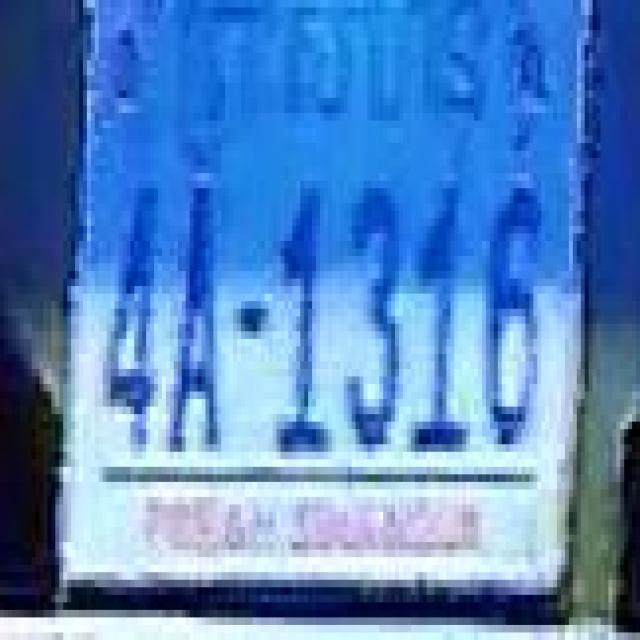Preah_Sihanouk: (178, 0, 492, 160)
